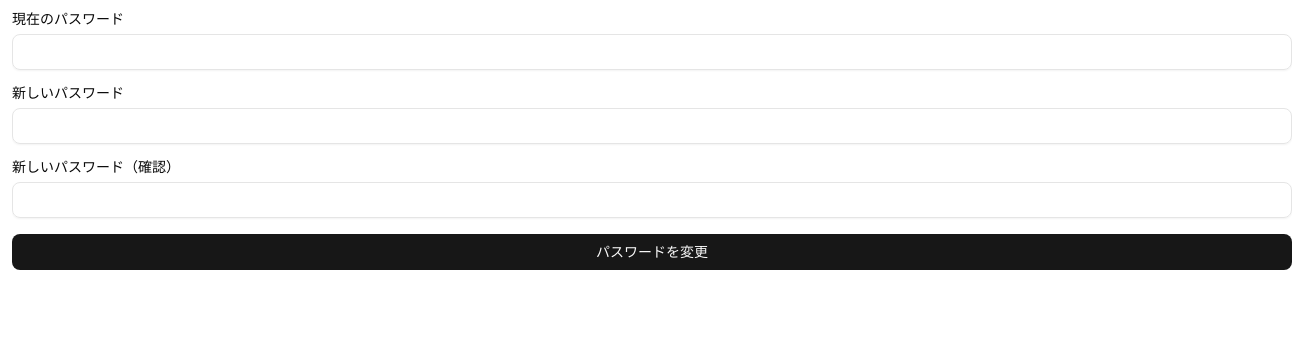
Test: PasswordForm › サーバーエラーが表示される
The image size is (1304, 347).
Type "wrongpass" into the password field labelled "現在のパスワード".
click(652, 52); type("wrongpass")  # box [12,34,1292,70]
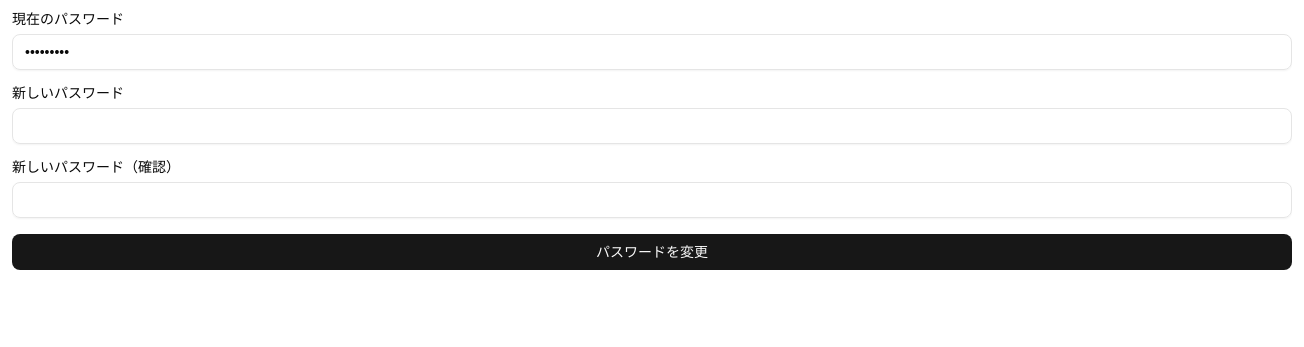
Type "newpass123" into the password field labelled "新しいパスワード".
click(652, 126); type("newpass123")  # box [12,108,1292,144]
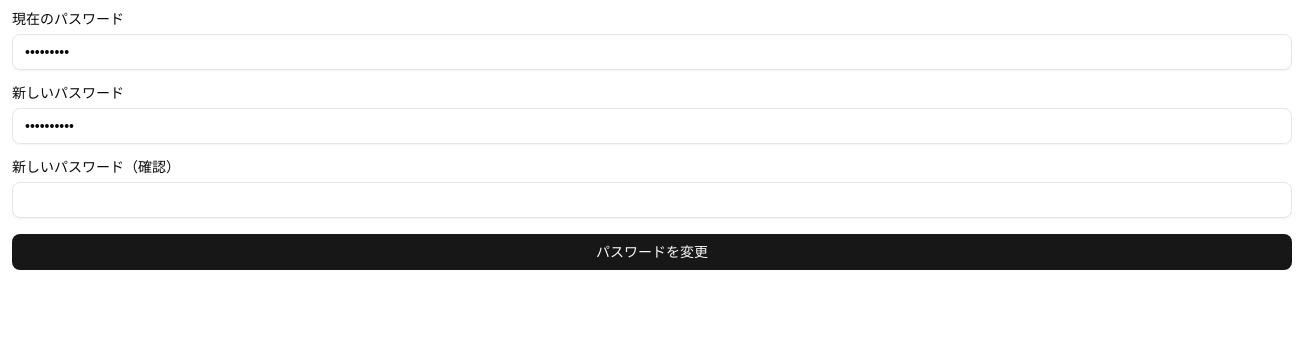
Type "newpass123" into the password field labelled "新しいパスワード（確認）".
click(652, 200); type("newpass123")  # box [12,182,1292,218]
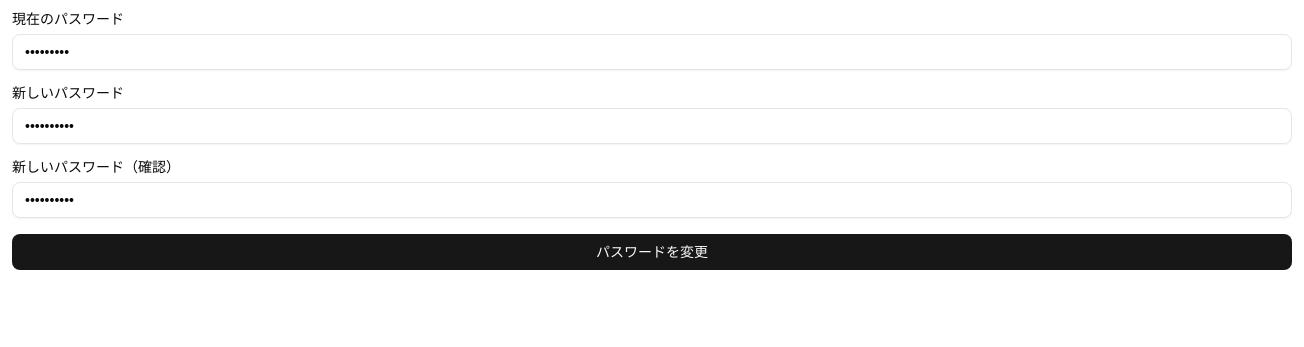
Click the button "パスワードを変更".
click(652, 252)  # box [12,234,1292,270]
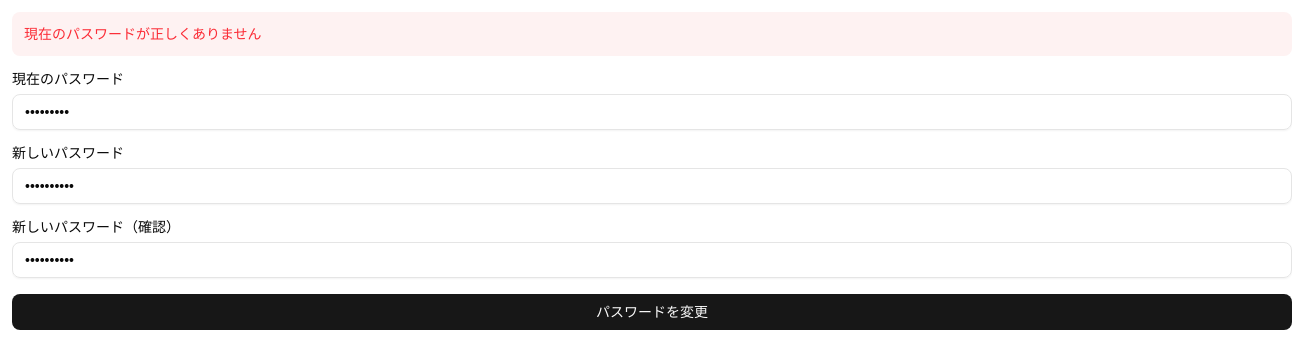
Now the text "現在のパスワードが正しくありません" is shown, box [12,12,1292,56]
